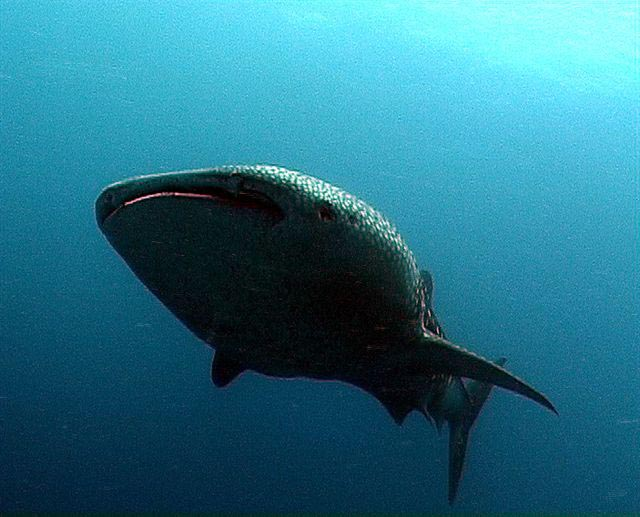Rhincodon_typusw: (72, 148, 553, 501)
